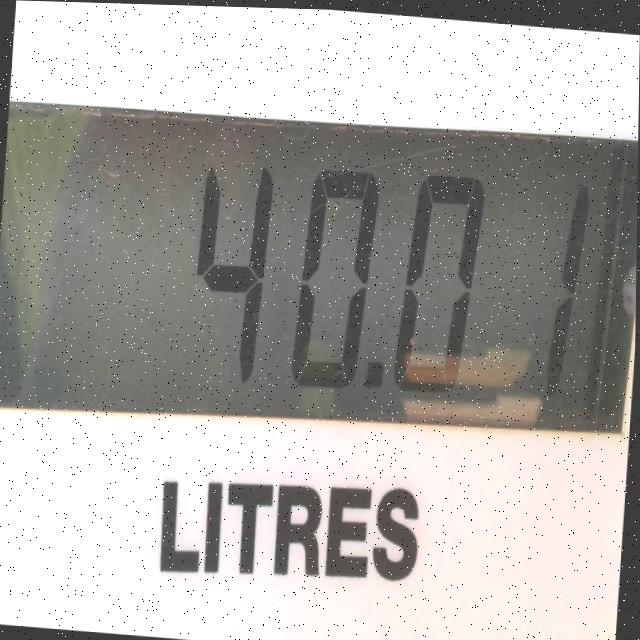.: (358, 333, 393, 409)
0: (383, 152, 492, 413), (276, 149, 382, 404)
1: (510, 150, 605, 431)
4: (174, 152, 298, 402)
